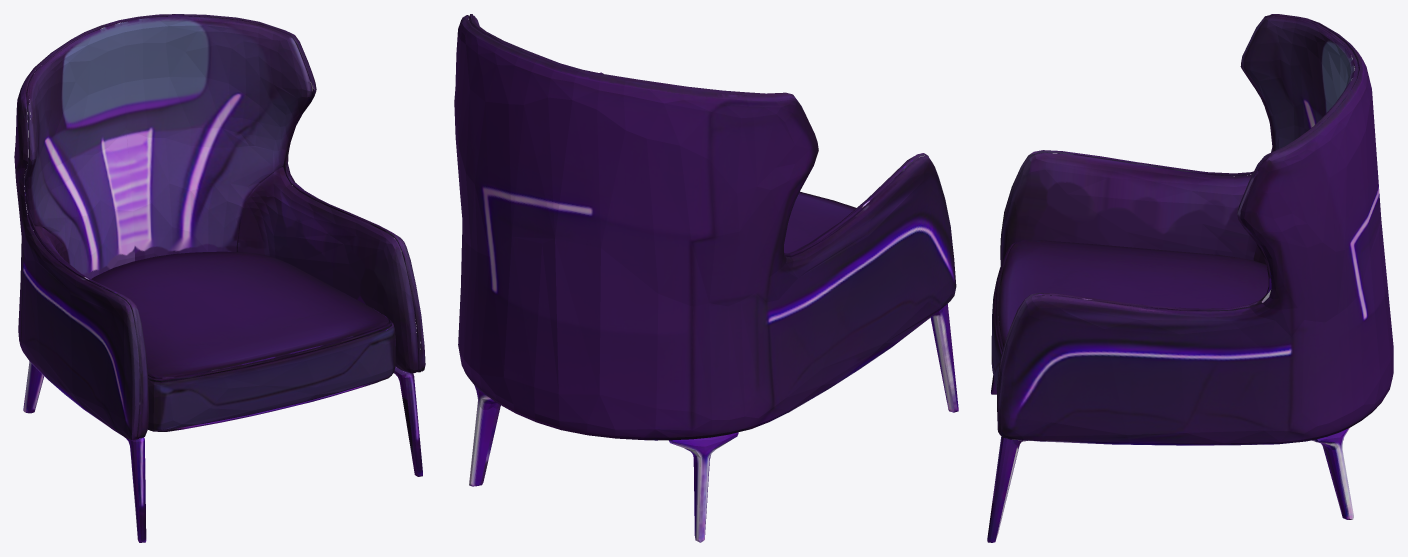
Rendered from edited_mesh.glb.
3 renders of one model, left to right at view 1: azimuth 30°, elevation 25°; view 2: azimuth 150°, elevation 25°; view 3: azimuth 270°, elevation 25°, orthographic. The views are drawn at different scales.
Parts seen in each view (by area): view 1: solid_001_wire; view 2: solid_001_wire; view 3: solid_001_wire.
Boxes of the visible parts, box(x1,y1,x2,y2) form: solid_001_wire: box(14, 14, 425, 542); solid_001_wire: box(454, 14, 958, 542); solid_001_wire: box(987, 14, 1393, 542).
Size of the model in its own units: 1.17 by 1.37 by 1.26.
1 material, 1 textured.
